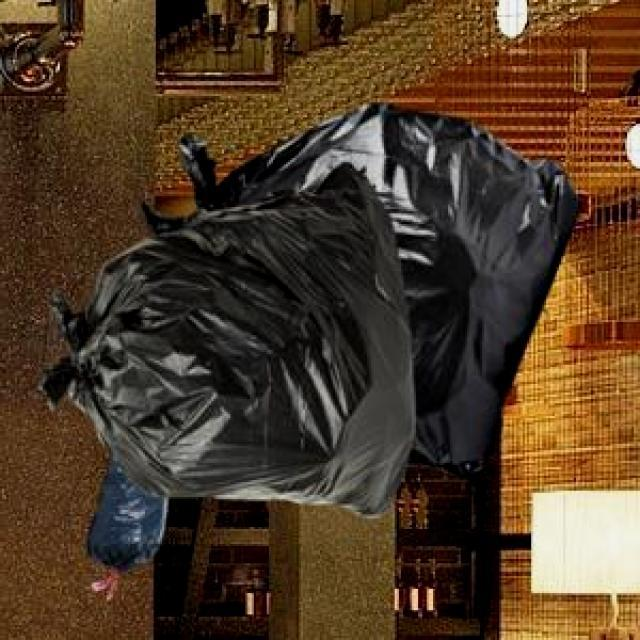Trashbag: (40, 159, 420, 525)
